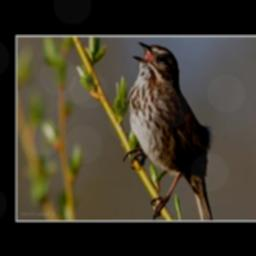Sparrow: (122, 42, 213, 221)
